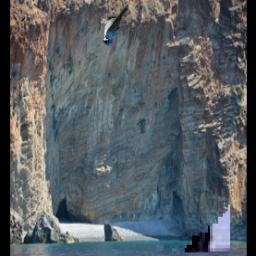Crow: (151, 0, 230, 253)
Swallow: (103, 6, 129, 47)
